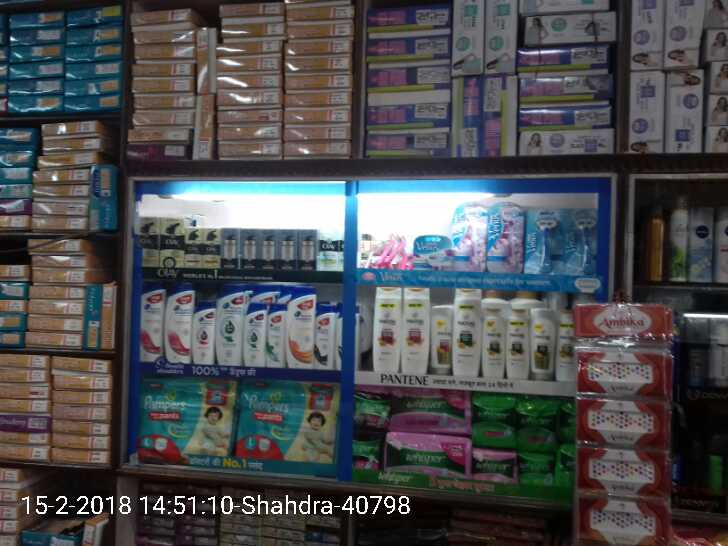venus: (525, 205, 563, 272), (487, 205, 525, 271), (563, 207, 600, 272), (456, 204, 487, 271), (366, 230, 411, 270), (414, 235, 452, 272)
